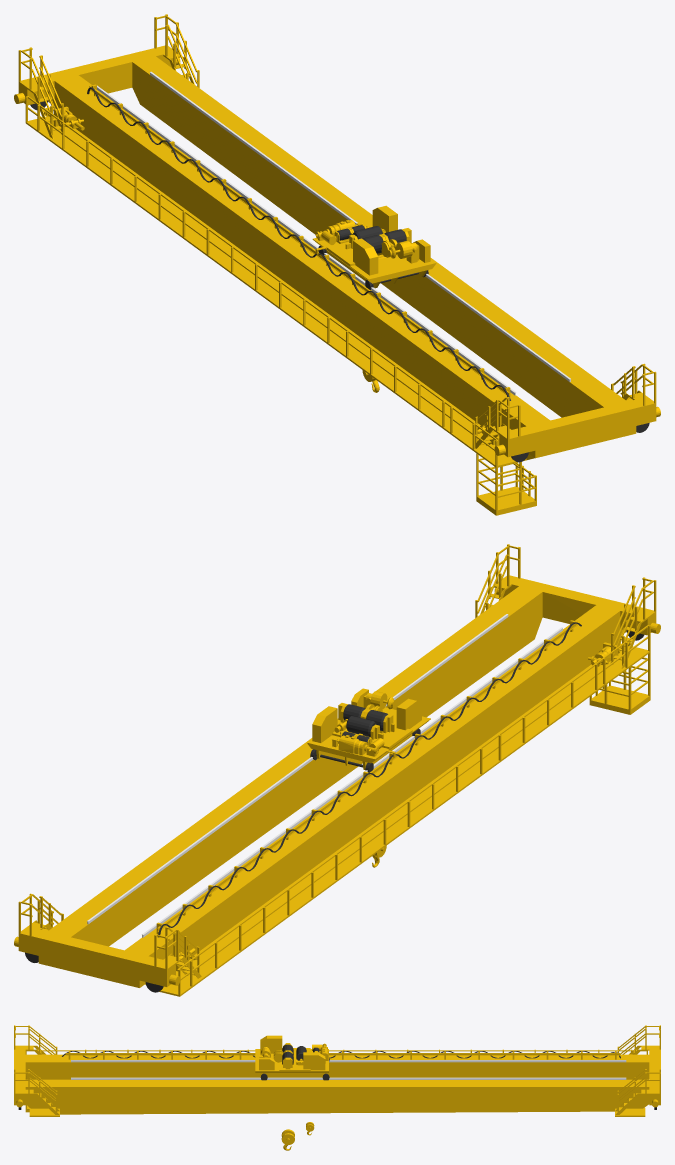
The picture shows the model from 3 angles, top to bottom: view 1: azimuth 30°, elevation 25°; view 2: azimuth 150°, elevation 25°; view 3: azimuth 270°, elevation 25°; orthographic projection. The views are drawn at different scales.
Visible parts, largest first — view 1: 1_Bay_C_865_Body, 1_Bay_C_865_Body_Head_01; view 2: 1_Bay_C_865_Body, 1_Bay_C_865_Body_Head_01; view 3: 1_Bay_C_865_Body, 1_Bay_C_865_Body_Head_01.
Part boxes in pixels (x1,y1,x2,y2): 1_Bay_C_865_Body: [14, 14, 660, 515]; 1_Bay_C_865_Body_Head_01: [312, 205, 436, 392]; 1_Bay_C_865_Body: [14, 544, 660, 996]; 1_Bay_C_865_Body_Head_01: [307, 688, 430, 867]; 1_Bay_C_865_Body: [14, 1025, 660, 1116]; 1_Bay_C_865_Body_Head_01: [255, 1035, 329, 1150].
Bounding box in the file's own units: 7.46 × 7.11 × 39.13.
